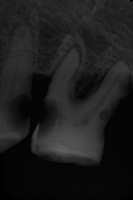Endo-Periodontal Lesion: (72, 68, 106, 100)
